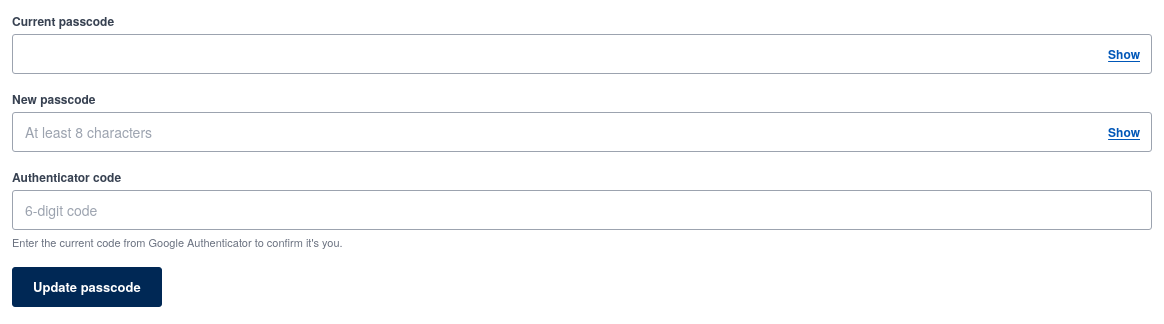
password fields on each form › password change: both fields are hidden with independently labelled toggles
Type "old-pass-123" into the password field labelled "Current passcode".
click(582, 54); type("old-pass-123")  # box [12, 34, 1152, 74]
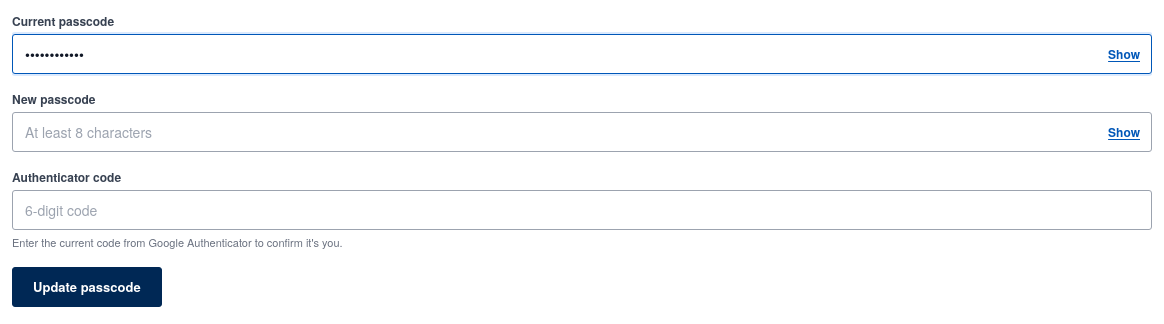
Type "new-pass-456" into the password field labelled "New passcode".
click(582, 132); type("new-pass-456")  # box [12, 112, 1152, 152]
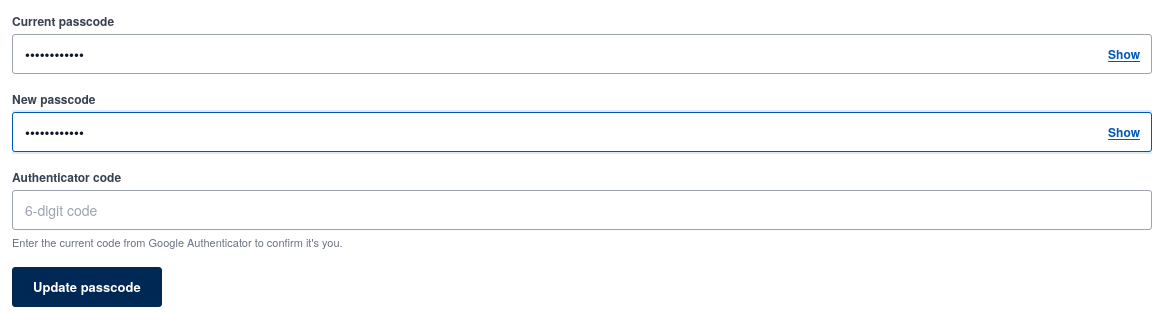
Click the button named "Show new password".
click(1124, 132)  # box [1100, 116, 1148, 148]
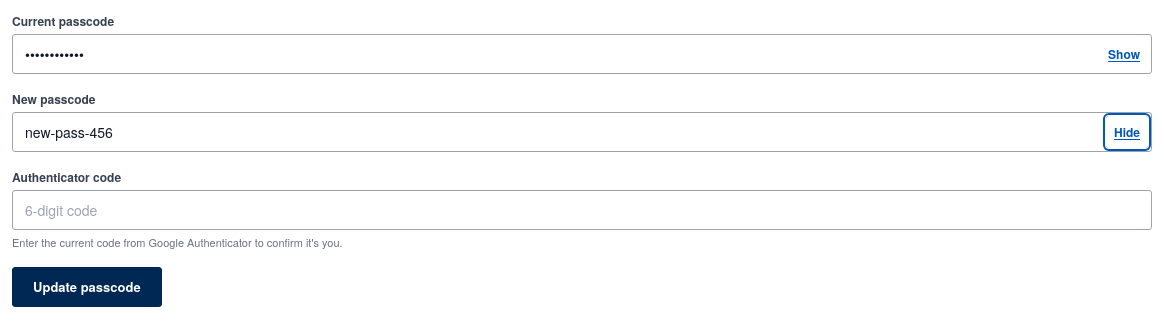
Expected: the button named "Show current password" is shown, [1100, 38, 1148, 70]
Now the field labelled "New passcode" shows its text, box [12, 112, 1152, 152]
